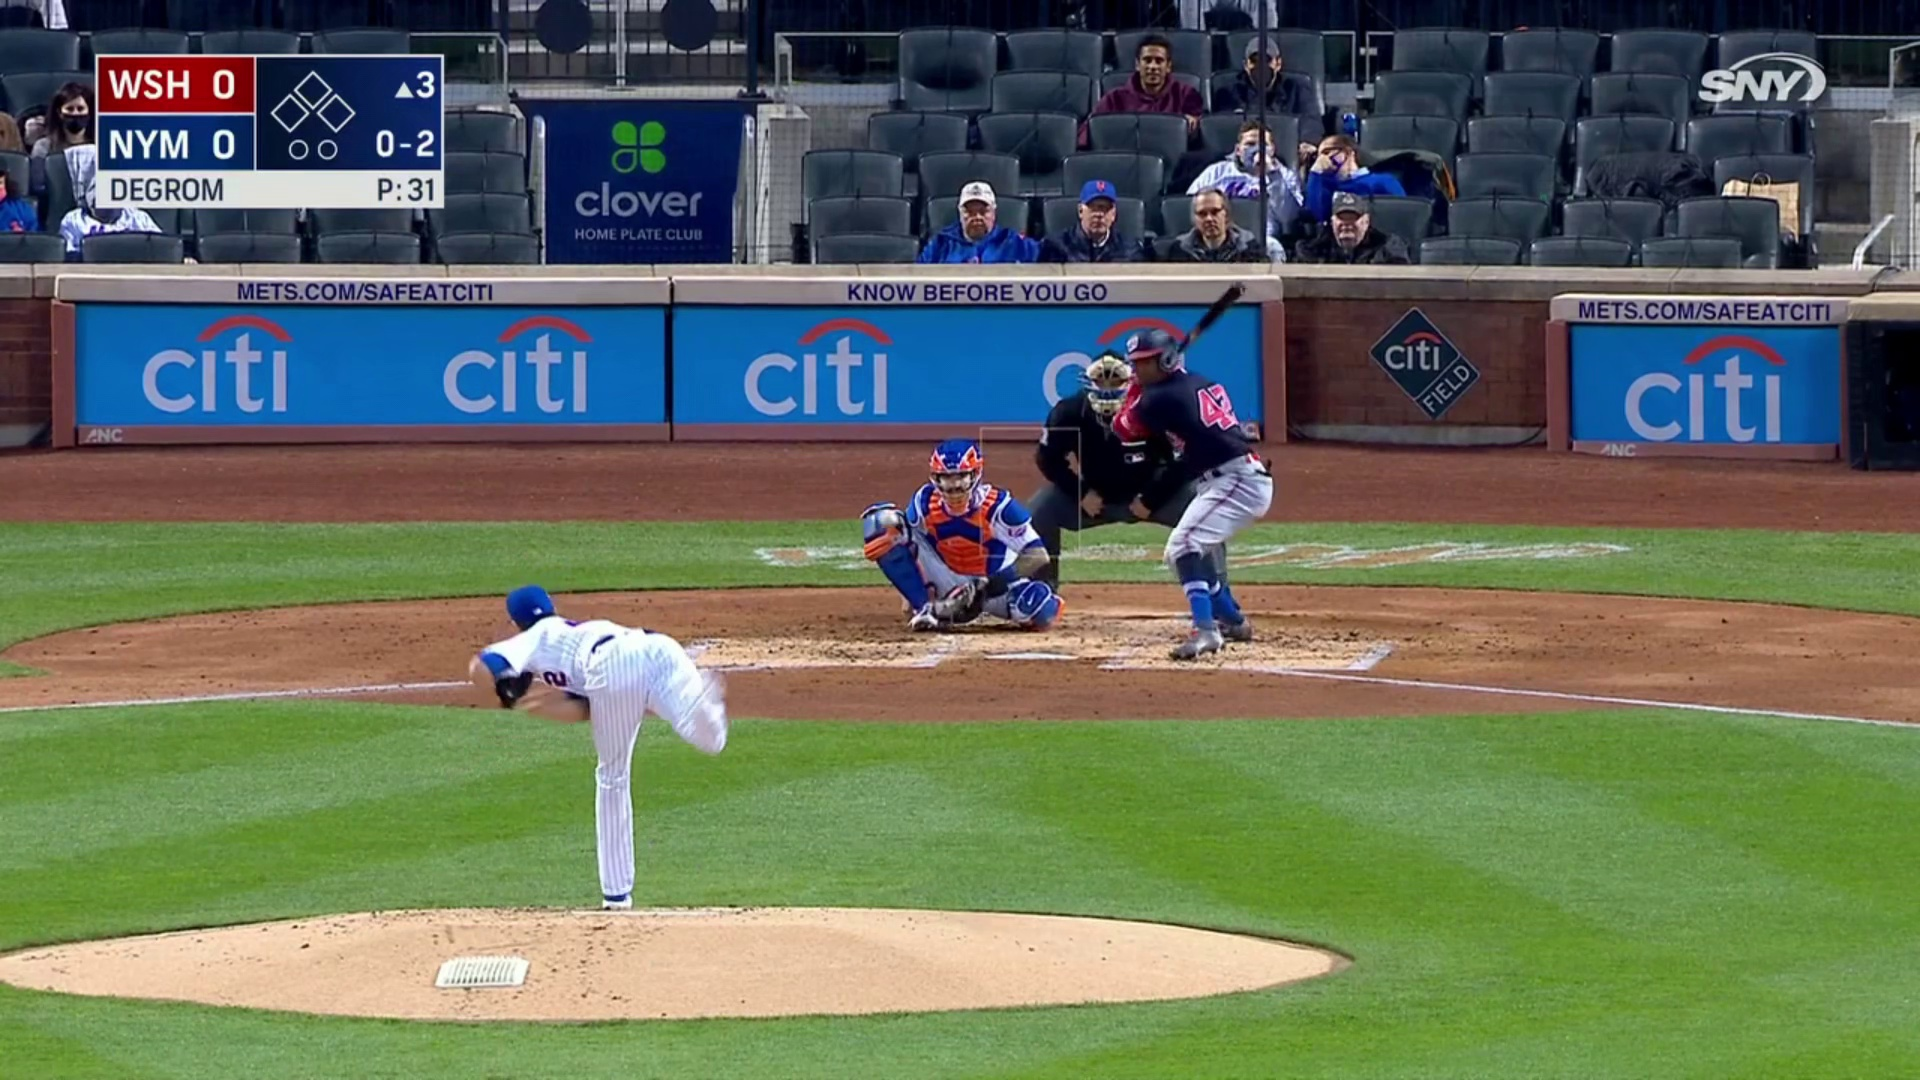baseball: (878, 509, 897, 526)
